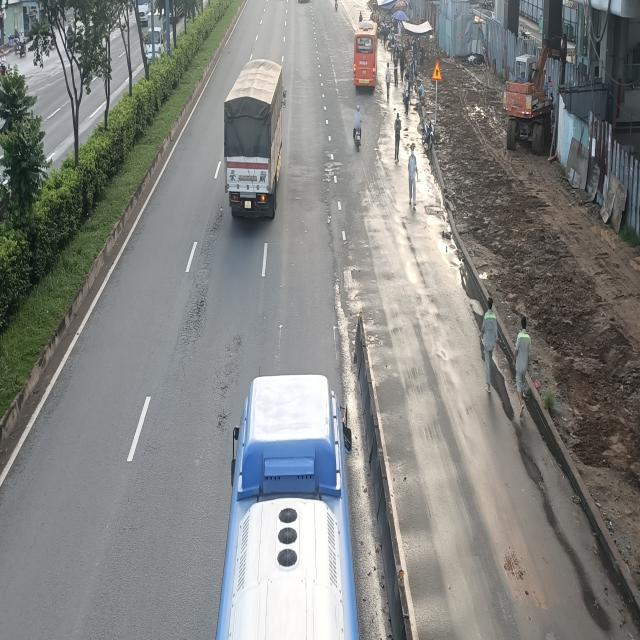coach: (212, 377, 373, 640), (353, 19, 378, 91)
truck: (224, 59, 289, 220)
